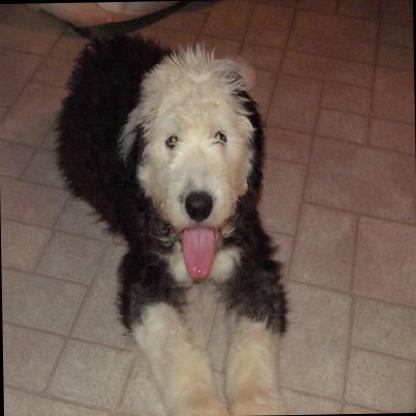Old_English_sheepdog: (49, 21, 288, 416)
